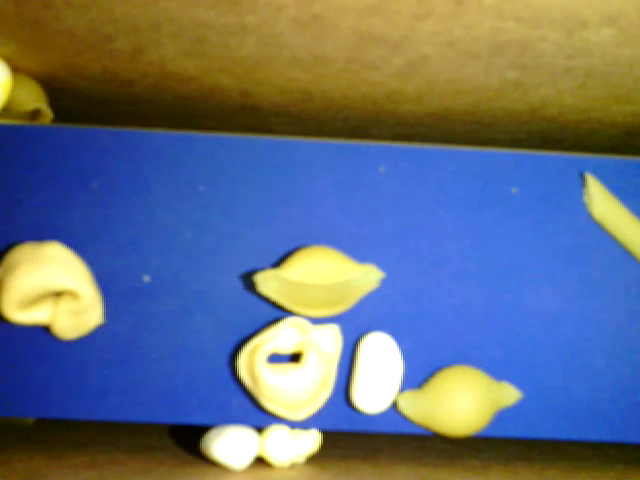penne: (583, 171, 636, 266)
shell: (244, 246, 388, 318), (394, 364, 525, 437), (1, 72, 56, 129)
tortellini: (223, 314, 342, 423), (2, 240, 108, 341)
